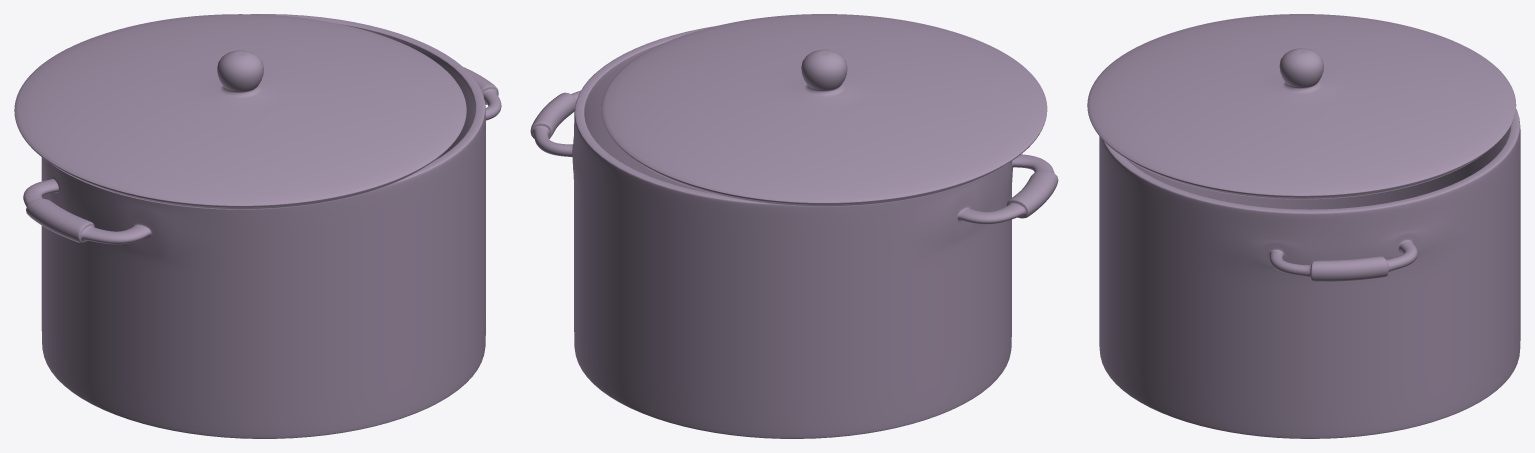
Rendered from castIronPot_MESH_RETOPO.fbx.
3 renders of one model, left to right at view 1: azimuth 30°, elevation 25°; view 2: azimuth 150°, elevation 25°; view 3: azimuth 270°, elevation 25°, orthographic. The views are drawn at different scales.
Visible parts, largest first — view 1: pot_GEO_01, potLid_GEO_001; view 2: pot_GEO_01, potLid_GEO_001; view 3: pot_GEO_01, potLid_GEO_001.
Part boxes in pixels (left/top/right/bottom): pot_GEO_01: left=23, top=14, right=501, bottom=438; potLid_GEO_001: left=14, top=14, right=466, bottom=209; pot_GEO_01: left=530, top=26, right=1058, bottom=438; potLid_GEO_001: left=601, top=14, right=1047, bottom=206; pot_GEO_01: left=1099, top=108, right=1520, bottom=438; potLid_GEO_001: left=1087, top=14, right=1516, bottom=199.
Bounding box in the file's own units: 27.41 × 16.65 × 22.82.
